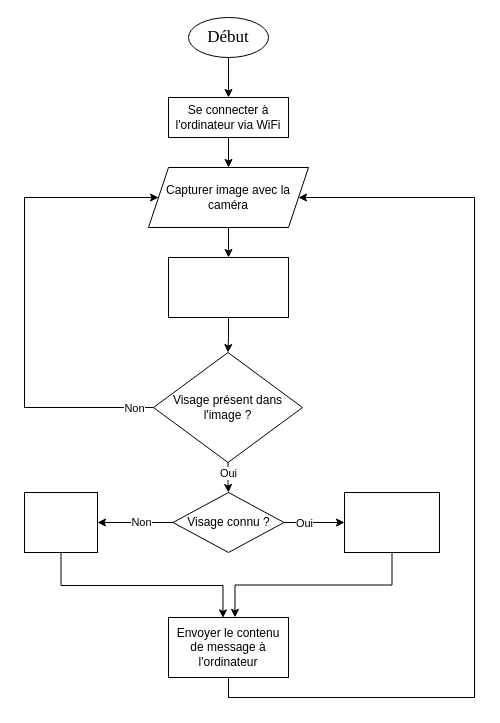
This 500x723 diagram has some shape labels left out. The shapes that lost their labels are listed below. From the top down, each one's box as (x1, y1, x2, y2) in pixels, then its label:
(168, 256, 288, 318): Recherche de visages dans l'image
(24, 492, 98, 552): Mettre "U" dans message
(344, 492, 440, 552): Mettre le numéro du visage dans message
